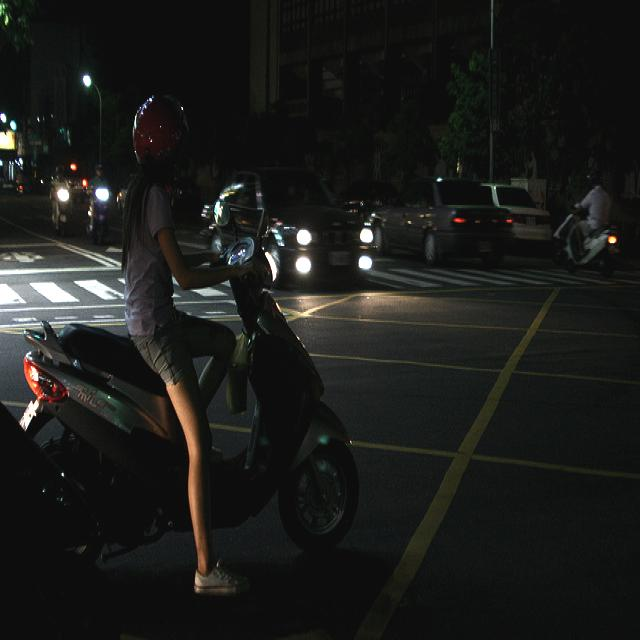Motorbike: (20, 196, 358, 561)
